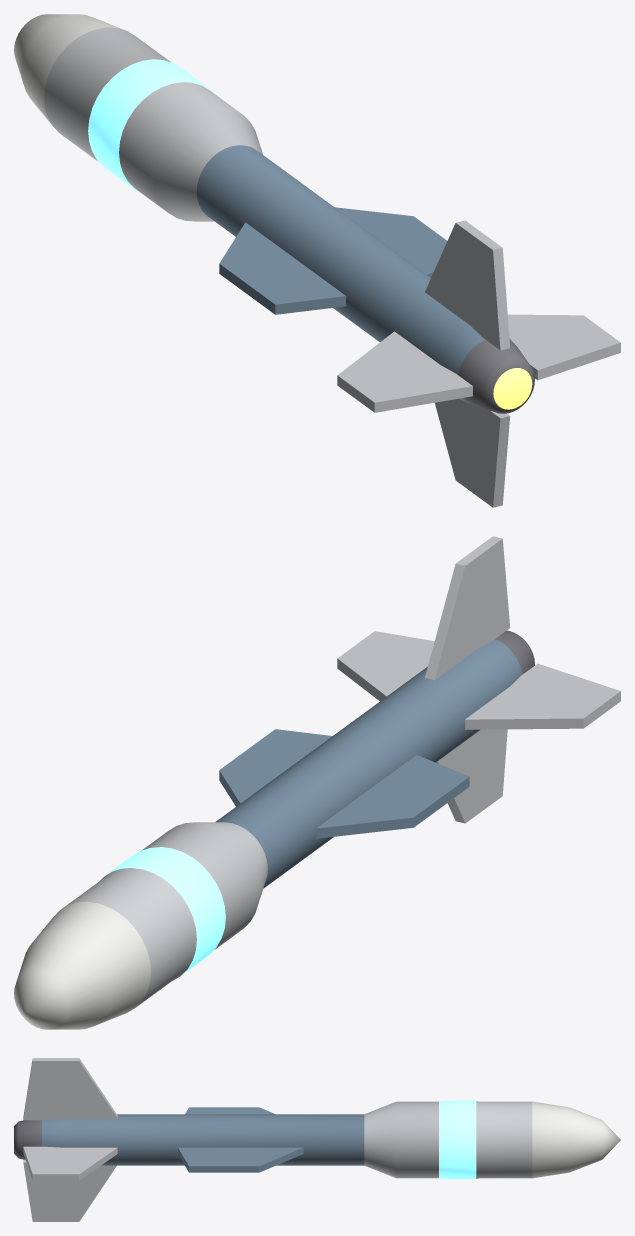
Rendered from emp-missile.glb.
3 views of the same model, one above another, from view 1: azimuth 30°, elevation 25°; view 2: azimuth 150°, elevation 25°; view 3: azimuth 270°, elevation 25° (orthographic). The views are drawn at different scales.
Visible parts, largest first — view 1: EmpMissile; view 2: EmpMissile; view 3: EmpMissile.
Boxes of the visible parts, box(x1,y1,x2,y2) form: EmpMissile: box(14, 14, 620, 507); EmpMissile: box(14, 536, 620, 1029); EmpMissile: box(14, 1058, 620, 1221).
Size of the model in its own units: 0.76 by 0.76 by 2.6.
